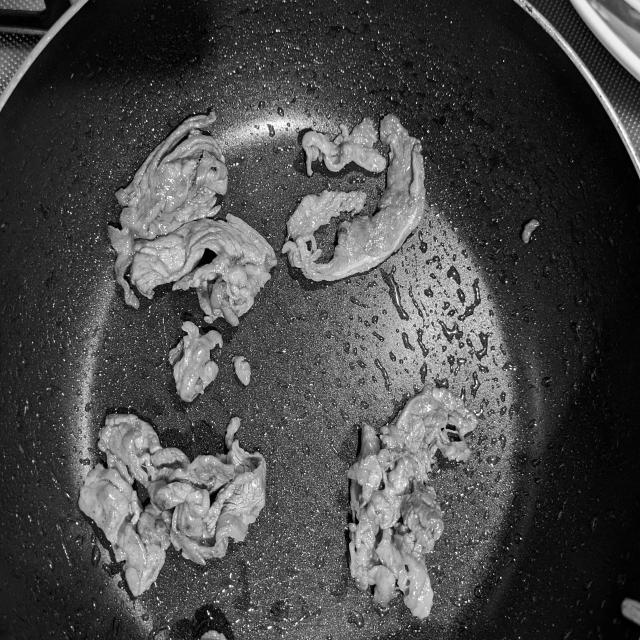OK cooked beef,: (66, 400, 273, 608), (339, 374, 488, 629), (109, 112, 281, 326), (284, 105, 438, 296), (167, 314, 228, 407)
